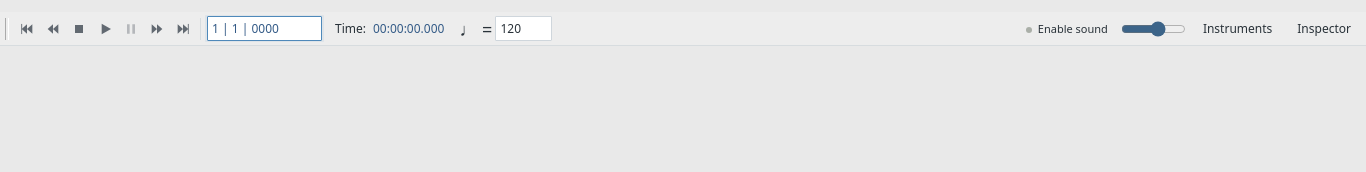
Test case: desktop chrome interactions › Escape discards a counter edit without seeking or stopping the score
Replace the text in the field named "Playback position" with "7": (264, 28) [207, 16, 322, 41]
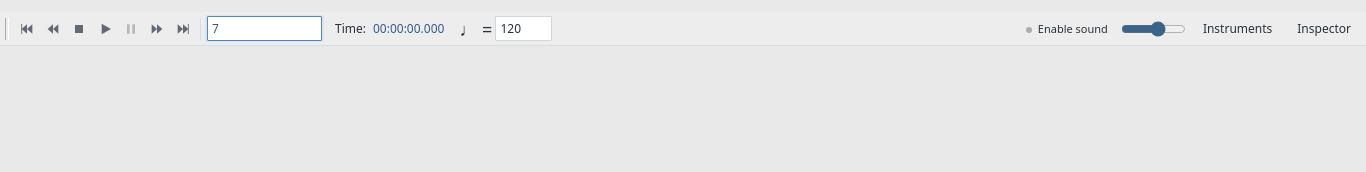
Press Escape in the field named "Playback position", box [207, 16, 322, 41]
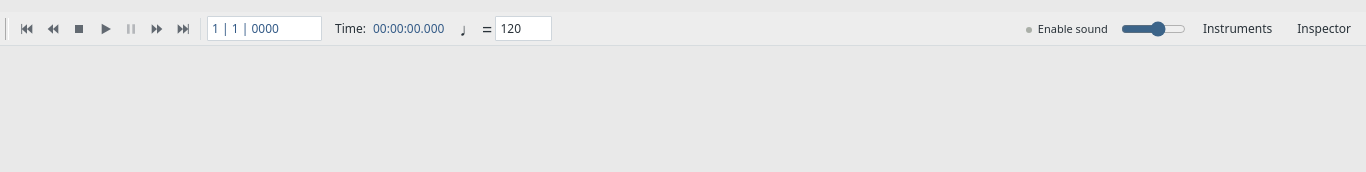
Expected: the field named "Playback position" holds "1 | 1 | 0000", [207, 16, 322, 41]
